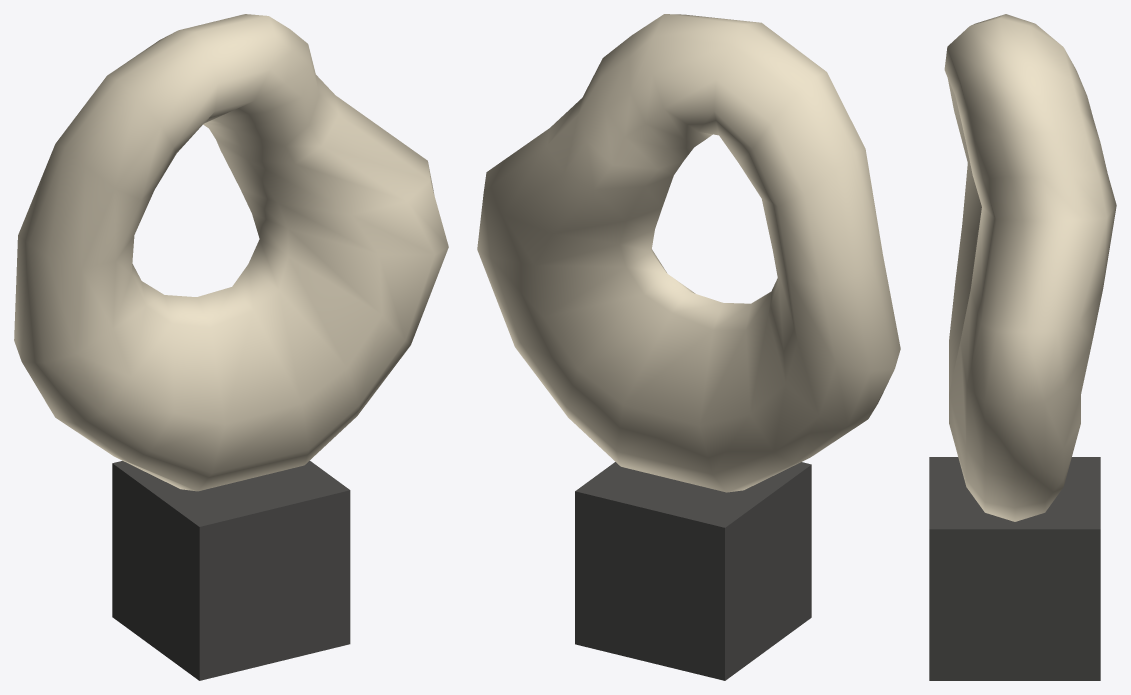
File: EsculturaRosca.fbx
The picture shows the model from 3 angles, left to right: view 1: azimuth 30°, elevation 25°; view 2: azimuth 150°, elevation 25°; view 3: azimuth 270°, elevation 25°; orthographic projection.
Parts seen in each view (by area): view 1: EsculturaRosca; view 2: EsculturaRosca; view 3: EsculturaRosca.
Boxes of the visible parts, box(x1,y1,x2,y2) form: EsculturaRosca: box(14, 14, 448, 680); EsculturaRosca: box(477, 14, 900, 680); EsculturaRosca: box(929, 14, 1116, 680).
Size of the model in its own units: 28.72 by 40.47 by 11.36.
